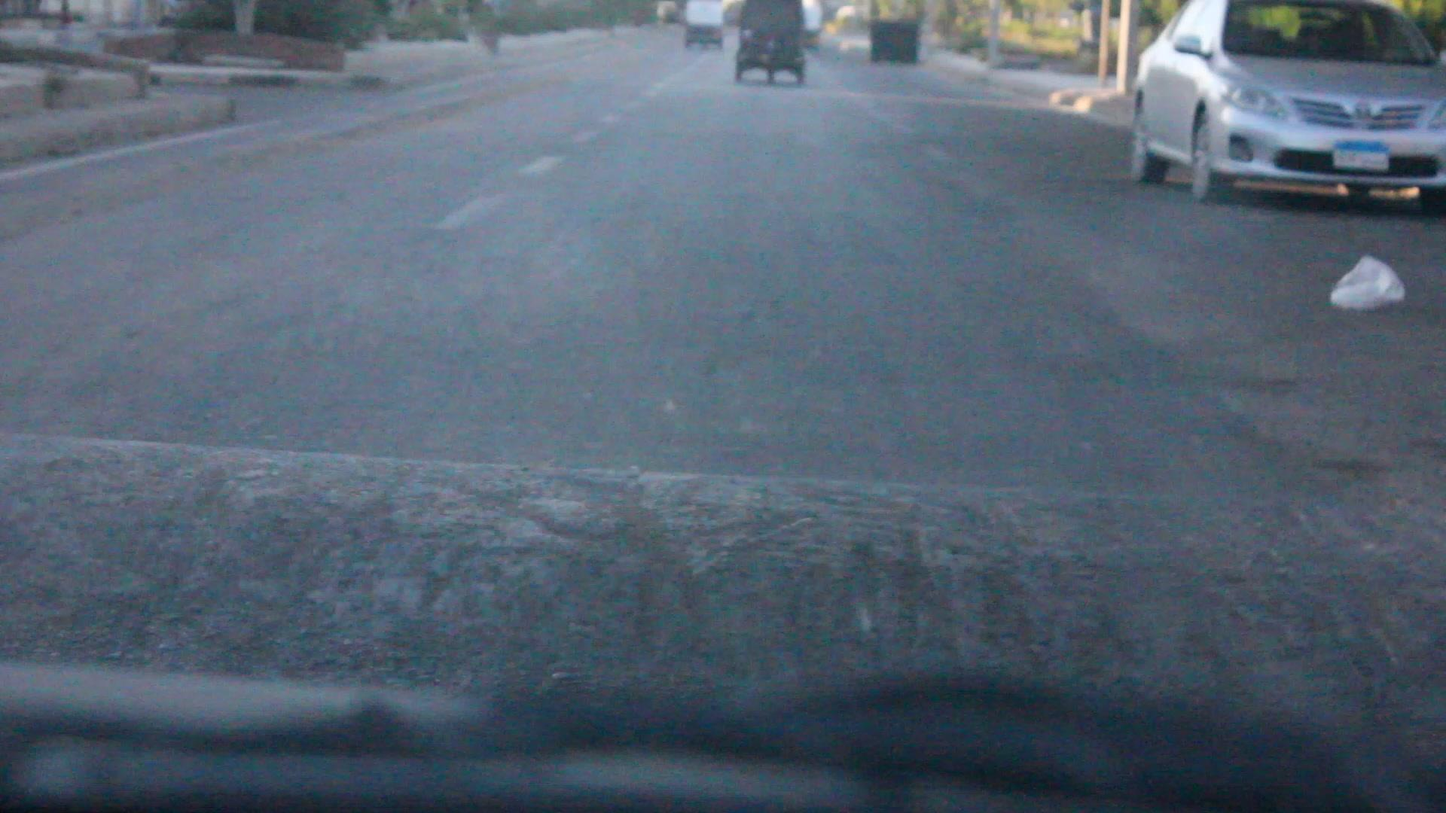Bump: (0, 431, 1445, 781)
